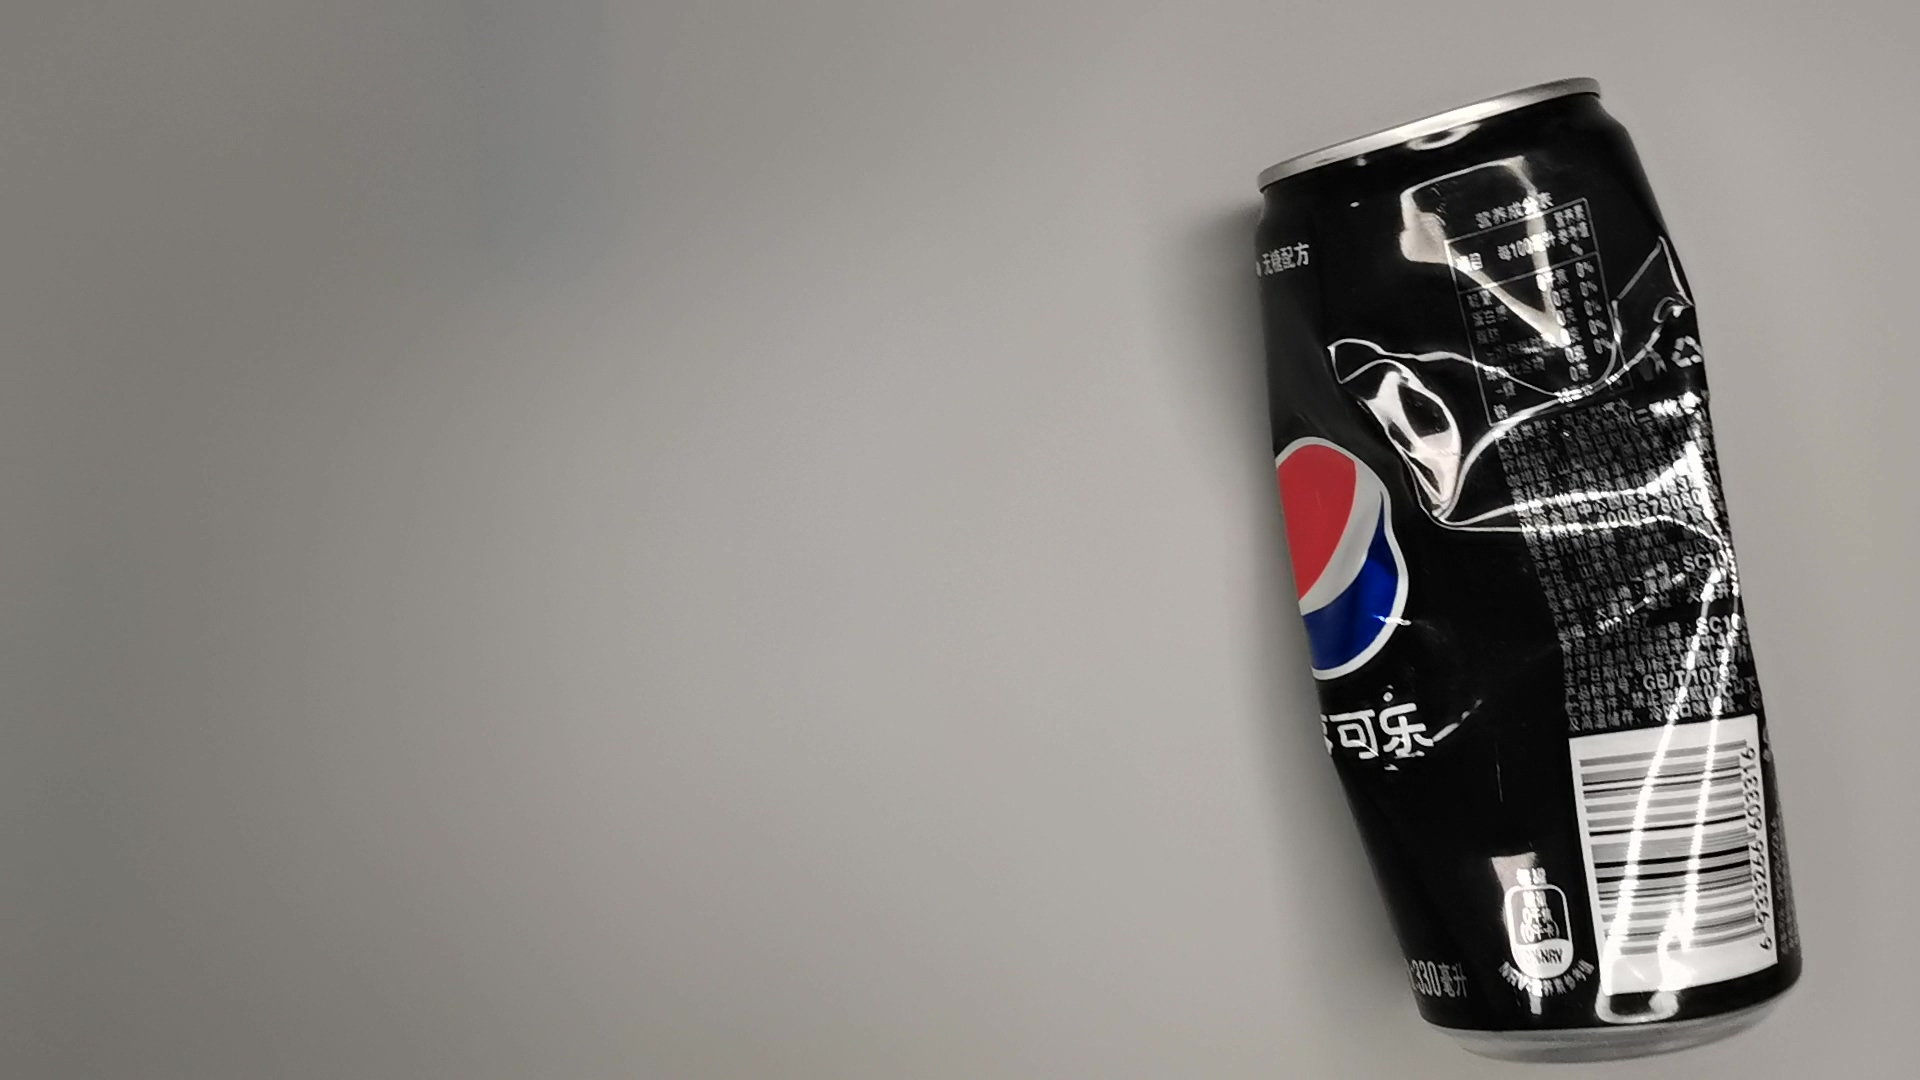can: (1255, 69, 1829, 1056)
